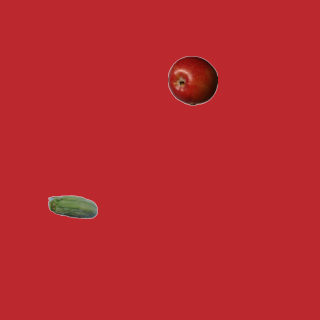Apple Braeburn: (167, 55, 217, 105)
Corn Husk: (47, 183, 97, 233)
